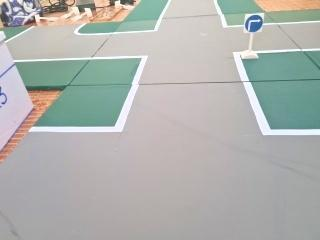right: (241, 10, 267, 38)
